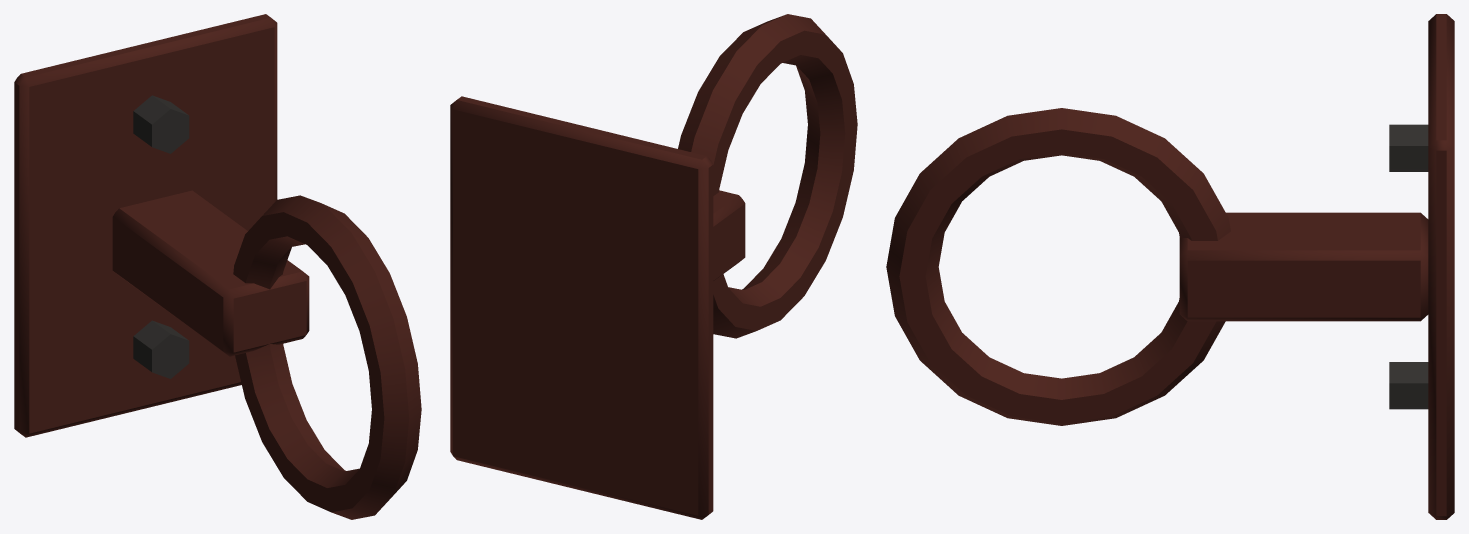
The model's file is PipeBracket.fbx.
3 views of the same model, side by side, from view 1: azimuth 30°, elevation 25°; view 2: azimuth 150°, elevation 25°; view 3: azimuth 270°, elevation 25° (orthographic). The views are drawn at different scales.
Visible parts, largest first — view 1: PipeBracket_Bracket, PipeBracket_Bolts; view 2: PipeBracket_Bracket; view 3: PipeBracket_Bracket, PipeBracket_Bolts.
Boxes of the visible parts, x1,y1,x2,y2 form: PipeBracket_Bracket: [14, 14, 421, 519]; PipeBracket_Bolts: [133, 95, 189, 378]; PipeBracket_Bracket: [450, 14, 857, 519]; PipeBracket_Bracket: [886, 14, 1454, 519]; PipeBracket_Bolts: [1389, 124, 1428, 409].
Size of the model in its own units: 0.12 by 0.16 by 0.217.
